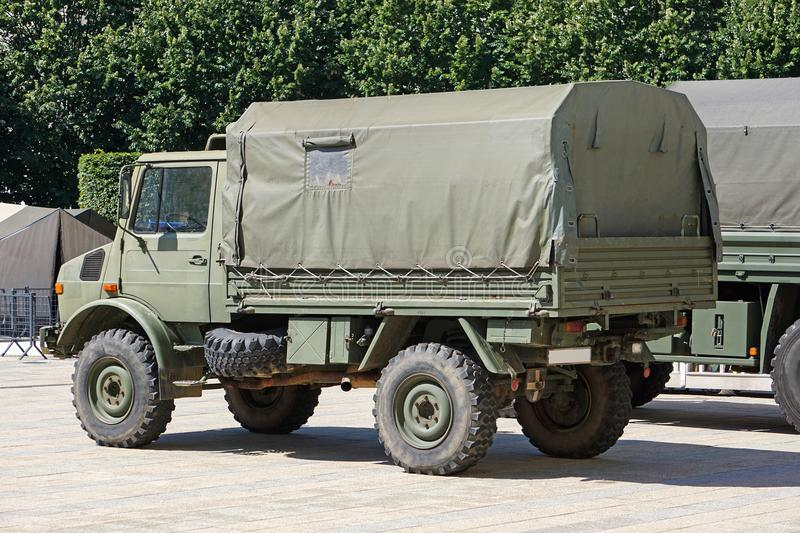camion: (56, 75, 603, 443)
